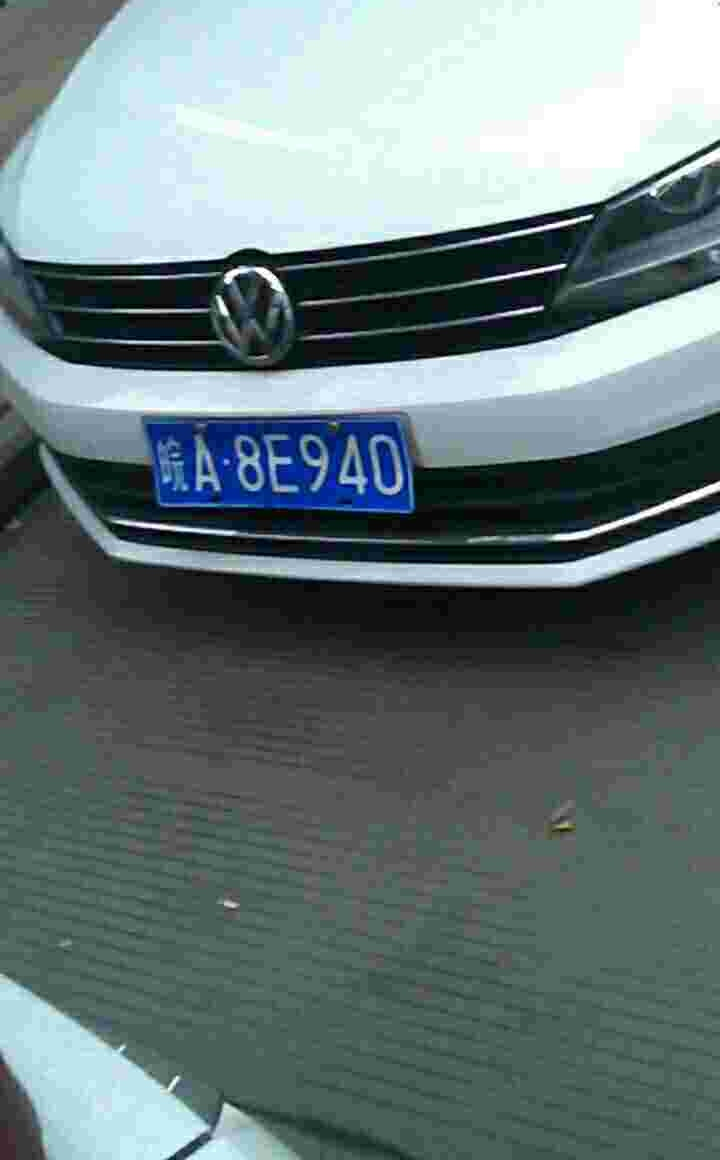plate: (142, 415, 421, 512)
